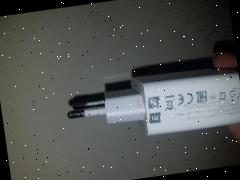electronic: (44, 34, 166, 180)
